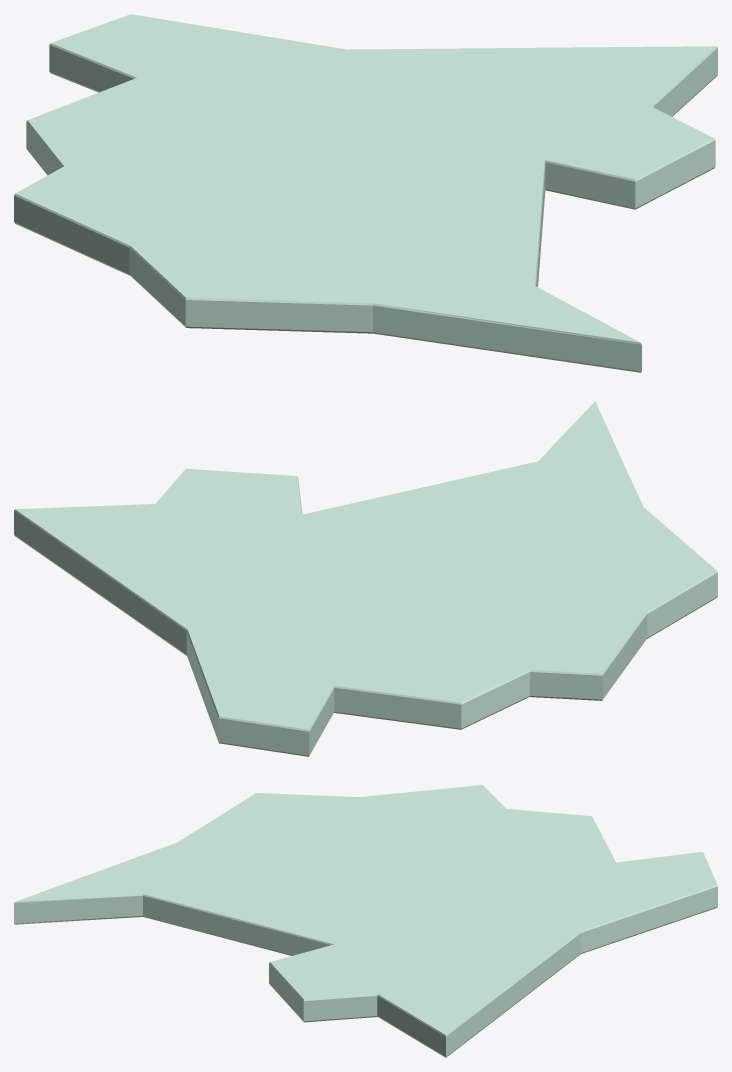
Rendered from MNE.glb.
3 views of the same model, one above another, from view 1: azimuth 30°, elevation 25°; view 2: azimuth 150°, elevation 25°; view 3: azimuth 270°, elevation 25° (orthographic). The views are drawn at different scales.
Bounding box in the file's own units: 1.6 × 0.068 × 1.9.
